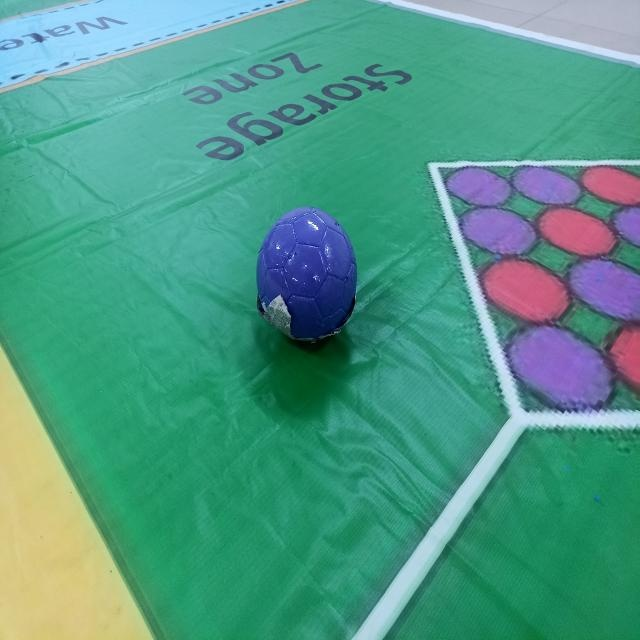purple_ball: (257, 208, 357, 343)
